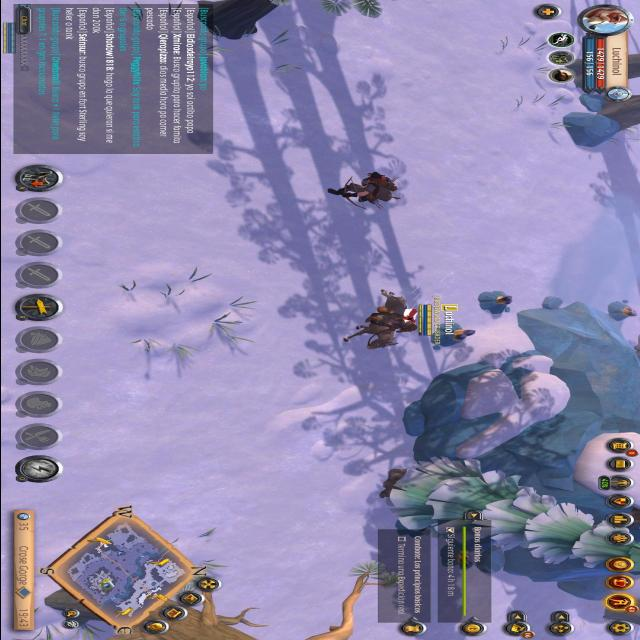piedra_cobre: (430, 321, 474, 349), (477, 291, 513, 313), (606, 300, 636, 321)
